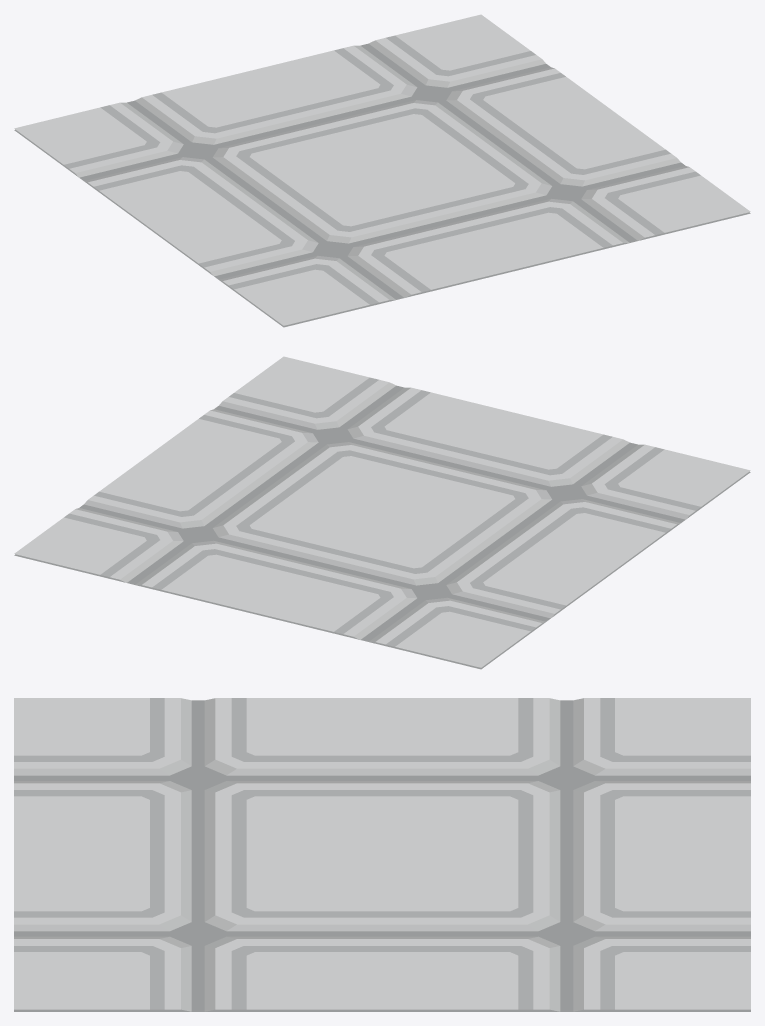
Rendered from Floor_type_A_025.fbx.
The picture shows the model from 3 angles, top to bottom: view 1: azimuth 30°, elevation 25°; view 2: azimuth 150°, elevation 25°; view 3: azimuth 270°, elevation 25°; orthographic projection. The views are drawn at different scales.
Visible parts, largest first — view 1: Floor_type_A_025; view 2: Floor_type_A_025; view 3: Floor_type_A_025.
Boxes of the visible parts, x1,y1,x2,y2 form: Floor_type_A_025: (14,14,750,327); Floor_type_A_025: (14,356,750,669); Floor_type_A_025: (14,698,750,1011).
Bounding box in the file's own units: 400 × 400 × 1.34.
